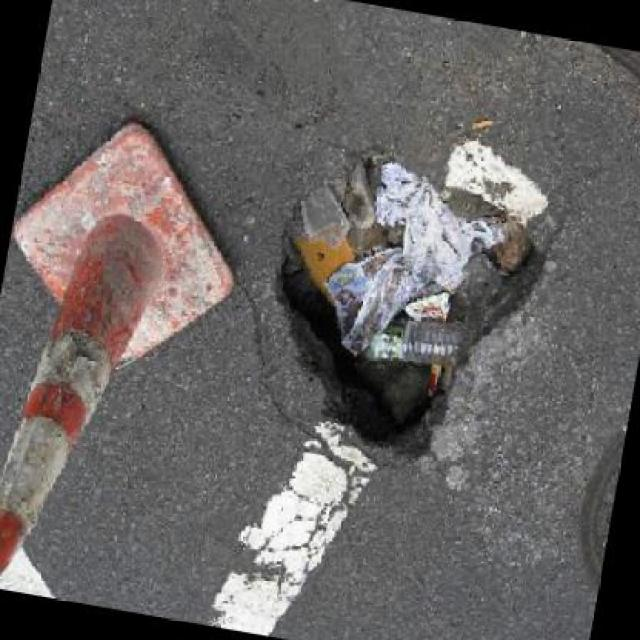pothole1: (239, 135, 559, 483)
